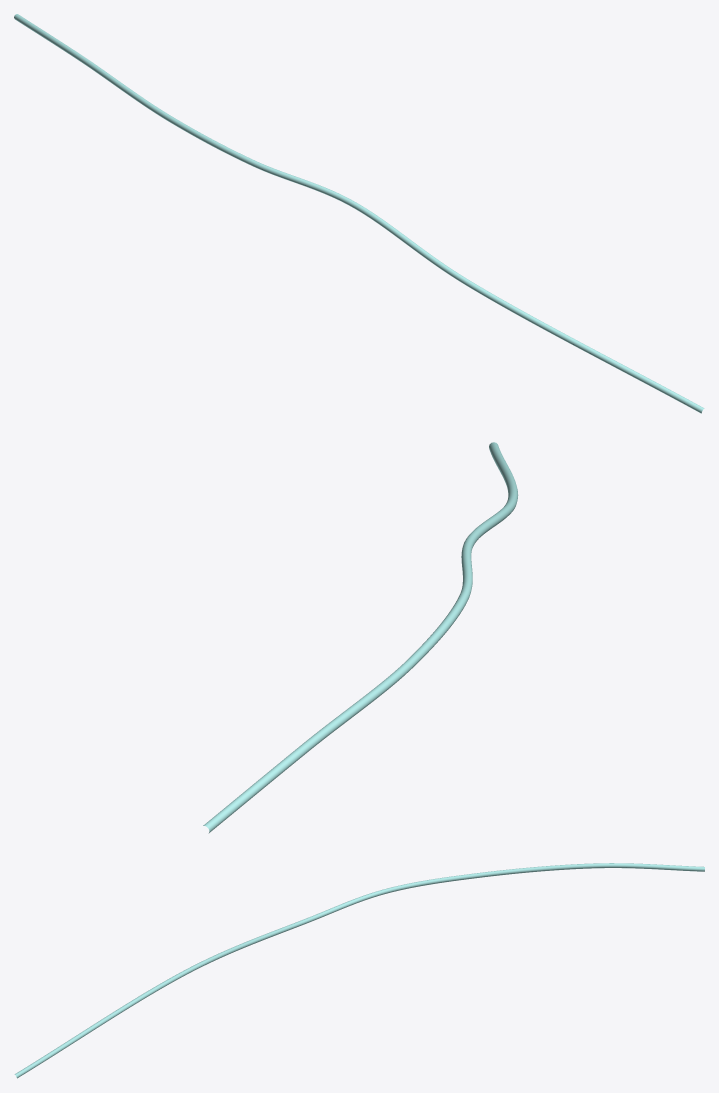
Rendered from local.glb.
3 renders of one model, top to bottom at view 1: azimuth 30°, elevation 25°; view 2: azimuth 150°, elevation 25°; view 3: azimuth 270°, elevation 25°, orthographic. The views are drawn at different scales.
Visible parts, largest first — view 1: rear_sensor_thin_cable; view 2: rear_sensor_thin_cable; view 3: rear_sensor_thin_cable.
Boxes of the visible parts, x1,y1,x2,y2 form: rear_sensor_thin_cable: (14, 14, 704, 413); rear_sensor_thin_cable: (203, 442, 518, 833); rear_sensor_thin_cable: (14, 863, 704, 1078).
Bounding box in the file's own units: 0.1051 × 0.0579 × 0.3077.
